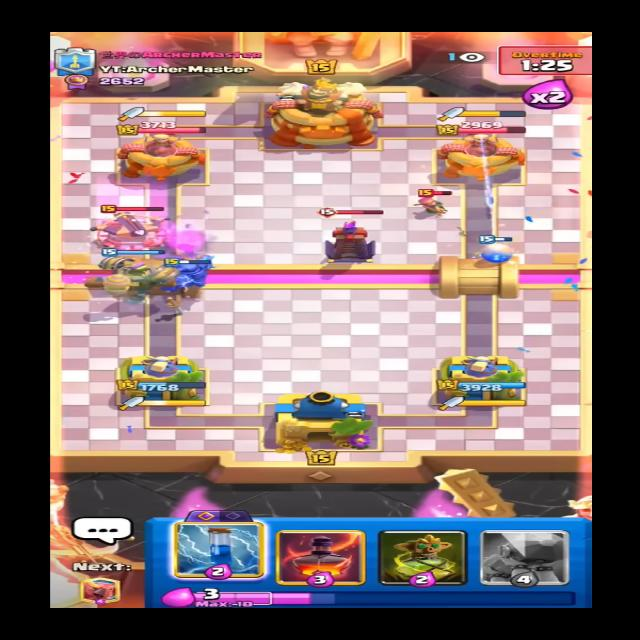Archer: (418, 190, 451, 214)
Evotesla: (308, 208, 390, 266)
Xbow: (89, 203, 171, 249)
